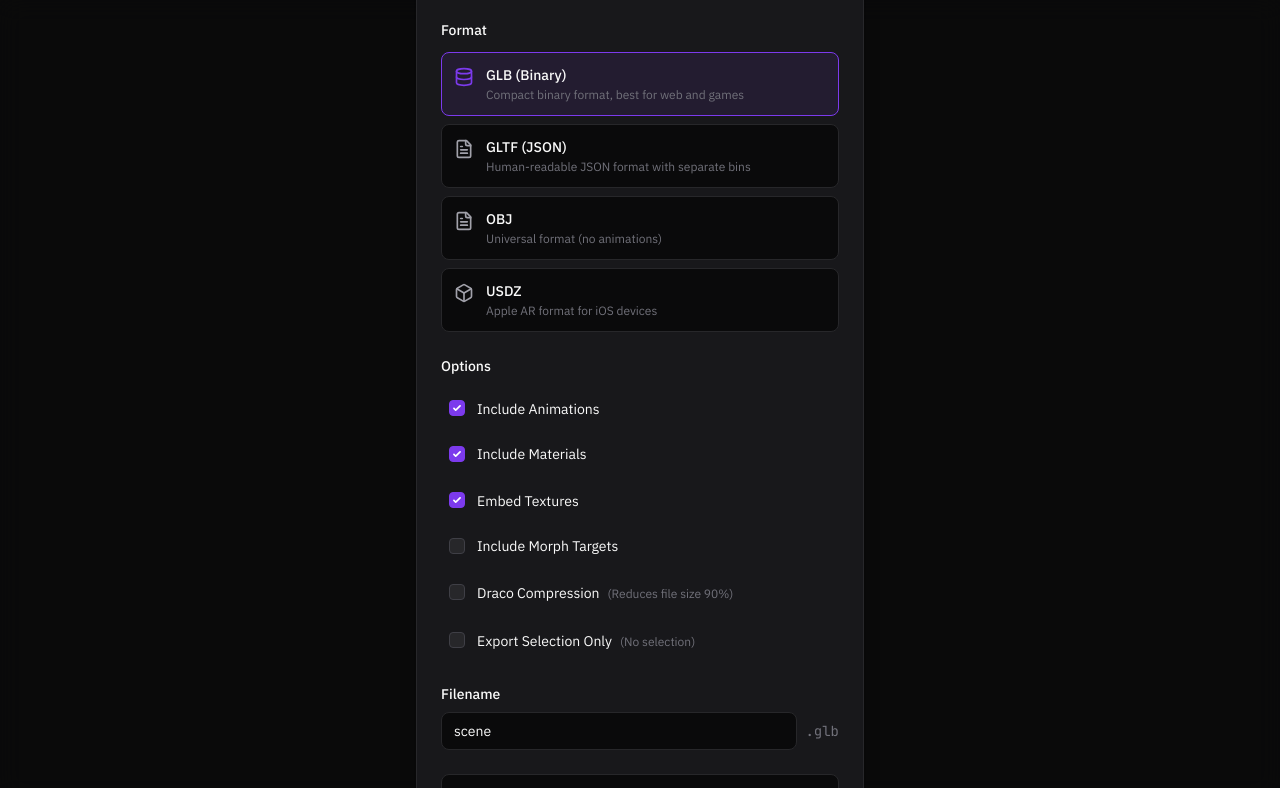
Test: ExportDialog › Options Toggling › should disable animations for OBJ format
# Switch to OBJ
Step 1. Click the button "OBJ Universal format (no animations)" → (640,228), box [441, 196, 839, 260]
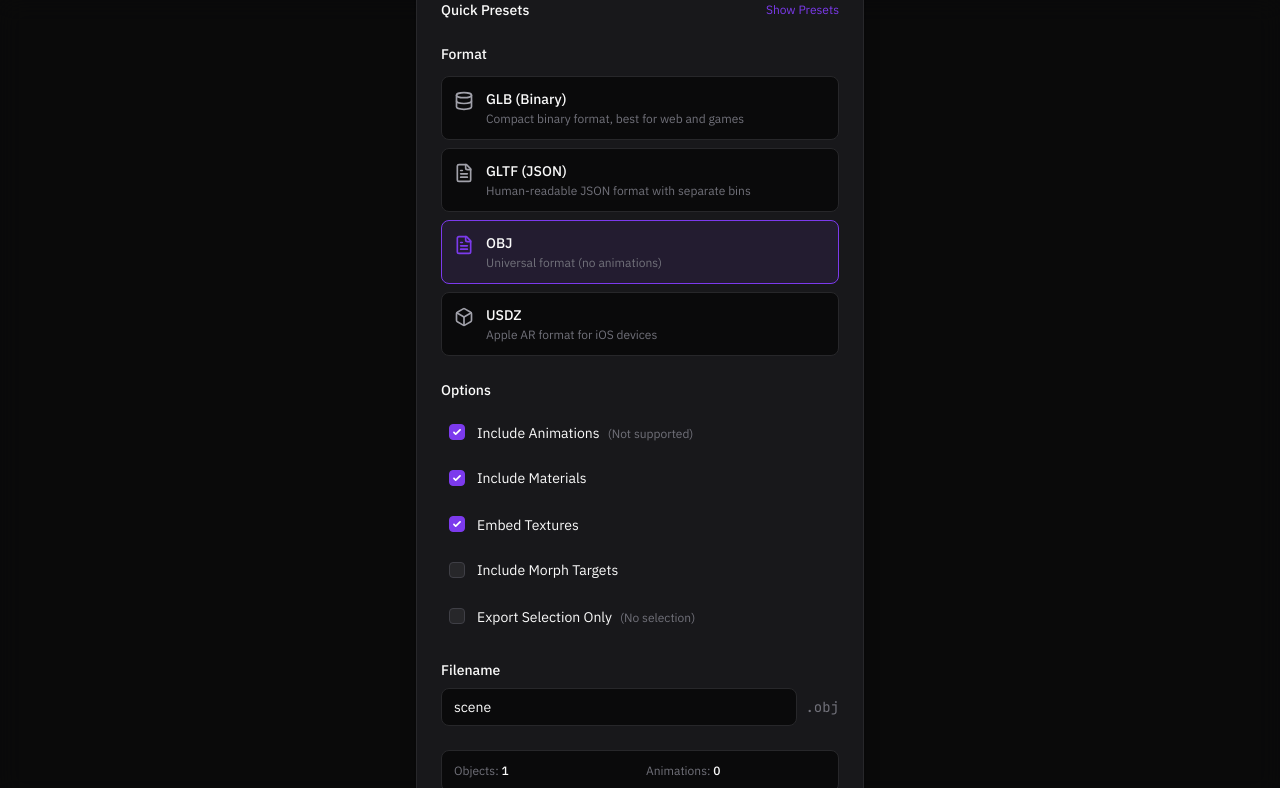
Check: the checkbox labelled "Include Animations(Not supported)" is disabled, box [449, 424, 465, 440]
